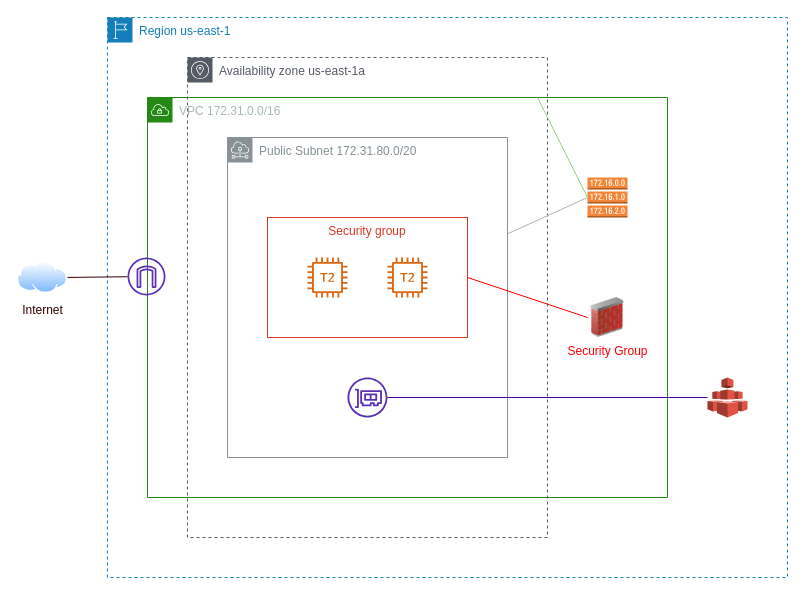
Some shapes in this 805 by 595 pixel diagram are drawn without their labels. The centre of each missing label's shape, as x and y in pixels:
Amazon EFS: (x=727, y=397)
EFS ENI: (x=367, y=397)
Internet Gateway: (x=146, y=276)
Route Table: (x=607, y=197)
